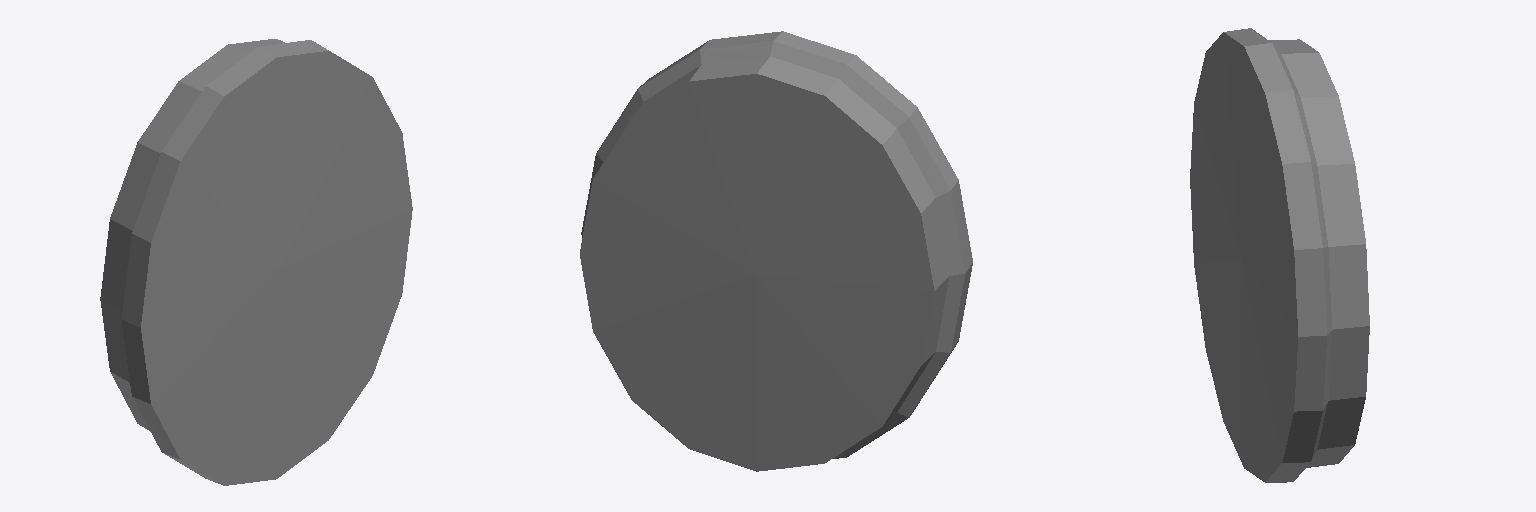
The model's file is LlantaIzq7.obj.
3 views of the same model, side by side, from view 1: azimuth 30°, elevation 25°; view 2: azimuth 150°, elevation 25°; view 3: azimuth 270°, elevation 25° (orthographic).
Parts seen in each view (by area): view 1: LlantaIzq7; view 2: LlantaIzq7; view 3: LlantaIzq7.
Boxes of the visible parts, x1,y1,x2,y2 form: LlantaIzq7: [100, 39, 412, 485]; LlantaIzq7: [580, 31, 972, 471]; LlantaIzq7: [1190, 28, 1369, 482].
Bounding box in the file's own units: 0.2179 × 0.2666 × 0.1023.